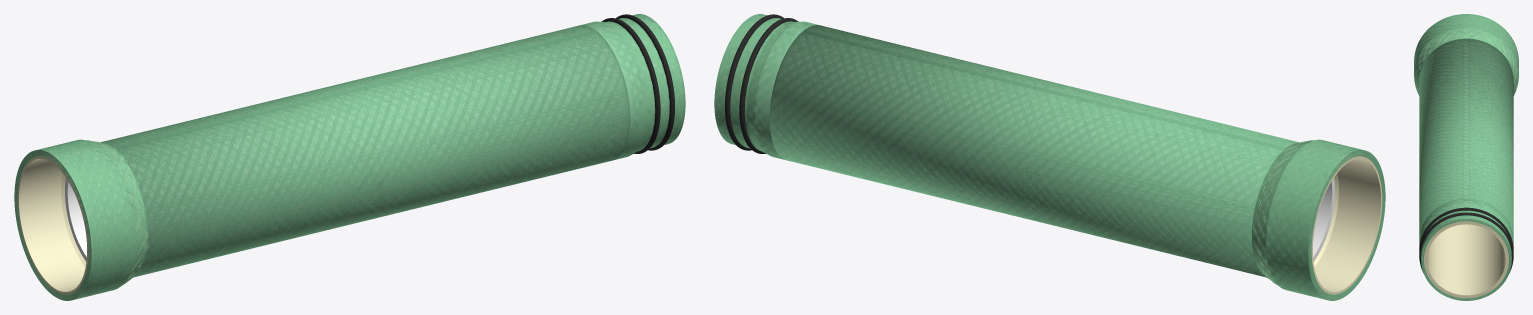
File: pipe-segment.glb
The picture shows the model from 3 angles, left to right: view 1: azimuth 30°, elevation 25°; view 2: azimuth 150°, elevation 25°; view 3: azimuth 270°, elevation 25°; orthographic projection. The views are drawn at different scales.
Visible parts, largest first — view 1: D_GG, FG_Outer, End_B_Resin, End_B_Fiber, D_BY, D_LY, End_N_Resin, End_N_Fiber, End_ORing_2, End_ORing_1; view 2: D_GG, FG_Outer, End_B_Resin, End_B_Fiber, D_LY, D_BY, End_N_Resin, End_N_Fiber, End_ORing_2, End_ORing_1; view 3: D_GG, FG_Outer, D_LY, End_B_Resin, End_B_Fiber, End_N_Resin, End_N_Fiber, End_ORing_2, End_ORing_1, D_BY.
Boxes of the visible parts, bbox=[...] form: D_GG: bbox=[100, 25, 630, 277]; FG_Outer: bbox=[105, 27, 628, 275]; End_B_Resin: bbox=[14, 139, 147, 300]; End_B_Fiber: bbox=[17, 140, 148, 298]; D_BY: bbox=[65, 28, 642, 261]; D_LY: bbox=[17, 26, 681, 294]; End_N_Resin: bbox=[580, 14, 685, 159]; End_N_Fiber: bbox=[587, 15, 683, 157]; End_ORing_2: bbox=[616, 14, 674, 150]; End_ORing_1: bbox=[602, 18, 660, 153]; D_GG: bbox=[769, 25, 1298, 277]; FG_Outer: bbox=[770, 27, 1294, 275]; End_B_Resin: bbox=[1252, 139, 1385, 300]; End_B_Fiber: bbox=[1251, 140, 1379, 298]; D_LY: bbox=[717, 24, 1382, 294]; D_BY: bbox=[757, 30, 1334, 263]; End_N_Resin: bbox=[714, 14, 819, 159]; End_N_Fiber: bbox=[715, 15, 812, 157]; End_ORing_2: bbox=[725, 14, 783, 150]; End_ORing_1: bbox=[739, 18, 797, 153]; D_GG: bbox=[1419, 38, 1513, 236]; FG_Outer: bbox=[1420, 41, 1512, 229]; D_LY: bbox=[1424, 22, 1508, 298]; End_B_Resin: bbox=[1414, 14, 1518, 95]; End_B_Fiber: bbox=[1414, 16, 1517, 94]; End_N_Resin: bbox=[1419, 198, 1513, 300]; End_N_Fiber: bbox=[1420, 200, 1512, 299]; End_ORing_2: bbox=[1419, 212, 1513, 273]; End_ORing_1: bbox=[1419, 207, 1513, 250]; D_BY: bbox=[1445, 44, 1497, 207].
Size of the model in its own units: 4.97 by 1.11 by 1.11.
